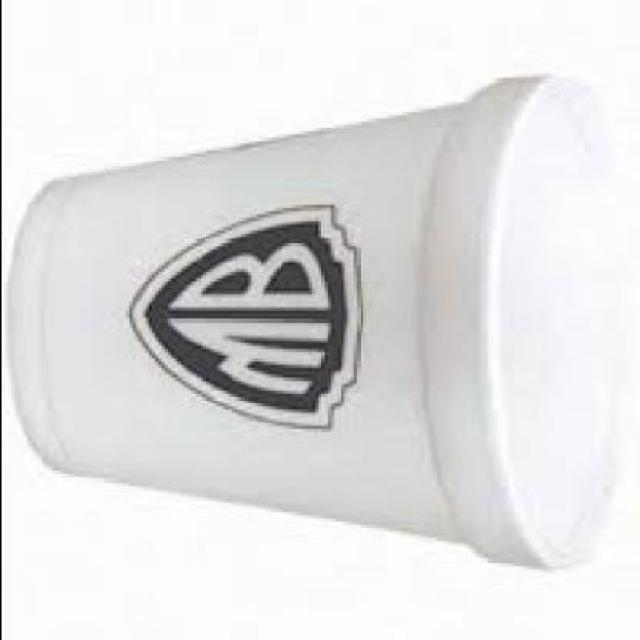PAPER: (12, 80, 628, 572)
